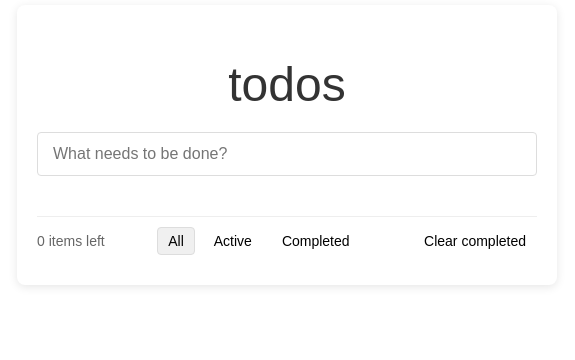
Test: TodoApp › deletes a todo
Type "Todo to delete" into the field with placeholder "What needs to be done?" at (287,154), box [37, 132, 537, 176]
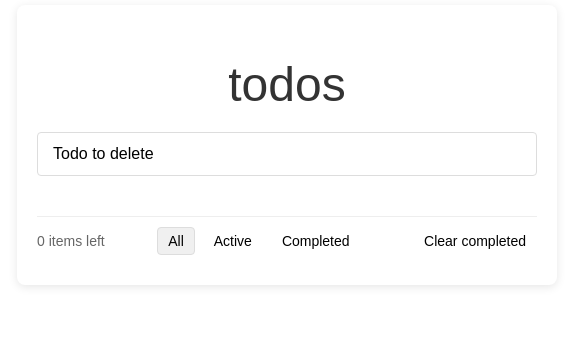
Submit the form from the field with placeholder "What needs to be done?", box [37, 132, 537, 176]
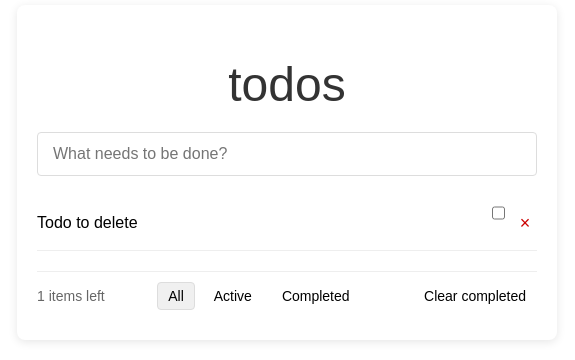
Click the button "×" at (525,223), box [513, 211, 537, 235]
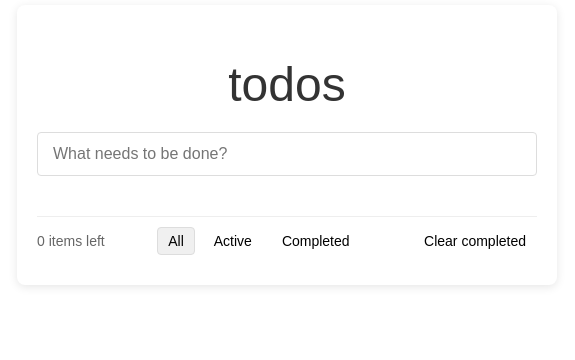
Check: the text "Todo to delete" is gone
